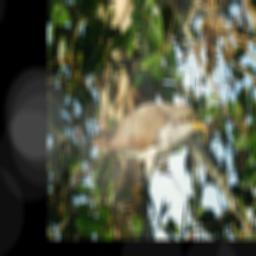Cuckoo: (89, 99, 210, 200)
